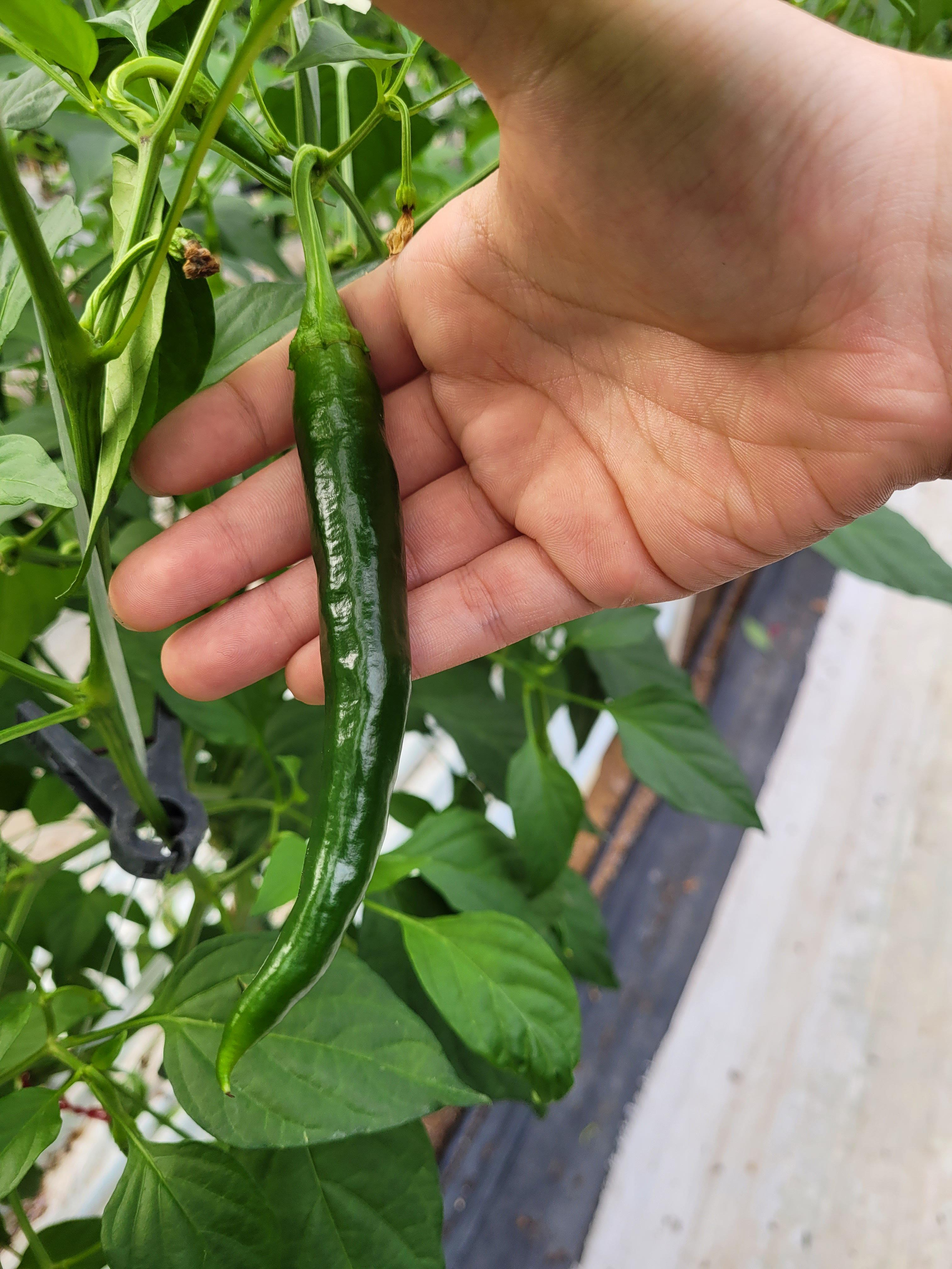Buah Cabai Sehat: (210, 293, 417, 1099)
